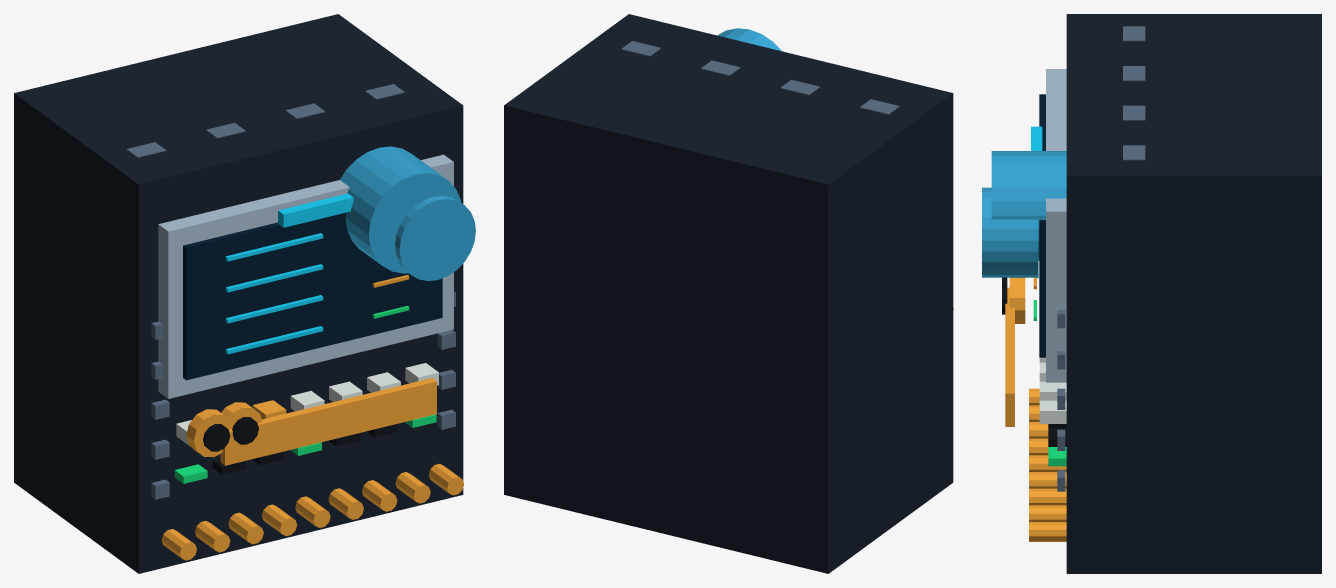
File: 66_L88_CabinPressurePrimaryTransducer.fbx
3 views of the same model, side by side, from view 1: azimuth 30°, elevation 25°; view 2: azimuth 150°, elevation 25°; view 3: azimuth 270°, elevation 25° (orthographic). The views are drawn at different scales.
Parts seen in each view (by area): view 1: L87_CabinPressurePrimaryTransducer_Part_0000, L87_CabinPressurePrimaryTransducer_Part_0002, L87_CabinPressurePrimaryTransducer_Part_0001, L87_CabinPressurePrimaryTransducer_Part_0009, L87_CabinPressurePrimaryTransducer_Part_0011, L87_CabinPressurePrimaryTransducer_Part_0004, L87_CabinPressurePrimaryTransducer_Part_0008, L87_CabinPressurePrimaryTransducer_Part_0003, L87_CabinPressurePrimaryTransducer_Part_0006, L87_CabinPressurePrimaryTransducer_Part_0010, L87_CabinPressurePrimaryTransducer_Part_0005, L87_CabinPressurePrimaryTransducer_Part_0012 (+3 smaller); view 2: L87_CabinPressurePrimaryTransducer_Part_0000, L87_CabinPressurePrimaryTransducer_Part_0008, L87_CabinPressurePrimaryTransducer_Part_0009; view 3: L87_CabinPressurePrimaryTransducer_Part_0000, L87_CabinPressurePrimaryTransducer_Part_0009, L87_CabinPressurePrimaryTransducer_Part_0001, L87_CabinPressurePrimaryTransducer_Part_0004, L87_CabinPressurePrimaryTransducer_Part_0008, L87_CabinPressurePrimaryTransducer_Part_0002, L87_CabinPressurePrimaryTransducer_Part_0011, L87_CabinPressurePrimaryTransducer_Part_0006, L87_CabinPressurePrimaryTransducer_Part_0014, L87_CabinPressurePrimaryTransducer_Part_0005.
Part boxes in pixels (<box>): L87_CabinPressurePrimaryTransducer_Part_0000: <box>14,14,463,573</box>; L87_CabinPressurePrimaryTransducer_Part_0002: <box>183,212,442,380</box>; L87_CabinPressurePrimaryTransducer_Part_0001: <box>158,154,453,398</box>; L87_CabinPressurePrimaryTransducer_Part_0009: <box>340,146,475,280</box>; L87_CabinPressurePrimaryTransducer_Part_0011: <box>220,378,436,465</box>; L87_CabinPressurePrimaryTransducer_Part_0004: <box>161,275,464,560</box>; L87_CabinPressurePrimaryTransducer_Part_0008: <box>126,84,455,499</box>; L87_CabinPressurePrimaryTransducer_Part_0003: <box>225,233,323,354</box>; L87_CabinPressurePrimaryTransducer_Part_0006: <box>176,363,438,445</box>; L87_CabinPressurePrimaryTransducer_Part_0010: <box>278,193,353,227</box>; L87_CabinPressurePrimaryTransducer_Part_0005: <box>174,306,436,483</box>; L87_CabinPressurePrimaryTransducer_Part_0012: <box>186,409,232,457</box>; L87_CabinPressurePrimaryTransducer_Part_0000: <box>504,14,953,573</box>; L87_CabinPressurePrimaryTransducer_Part_0008: <box>621,41,899,114</box>; L87_CabinPressurePrimaryTransducer_Part_0009: <box>717,28,781,51</box>; L87_CabinPressurePrimaryTransducer_Part_0000: <box>1066,14,1321,573</box>; L87_CabinPressurePrimaryTransducer_Part_0009: <box>982,151,1066,277</box>; L87_CabinPressurePrimaryTransducer_Part_0001: <box>1046,69,1066,382</box>; L87_CabinPressurePrimaryTransducer_Part_0004: <box>1029,277,1066,541</box>; L87_CabinPressurePrimaryTransducer_Part_0008: <box>1057,26,1145,491</box>; L87_CabinPressurePrimaryTransducer_Part_0002: <box>1039,94,1045,357</box>; L87_CabinPressurePrimaryTransducer_Part_0011: <box>1005,287,1014,426</box>; L87_CabinPressurePrimaryTransducer_Part_0006: <box>1039,357,1066,423</box>; L87_CabinPressurePrimaryTransducer_Part_0014: <box>1009,277,1025,323</box>; L87_CabinPressurePrimaryTransducer_Part_0005: <box>1033,300,1066,466</box>.
Bounding box in the file's own units: 104 × 120 × 92.31.
